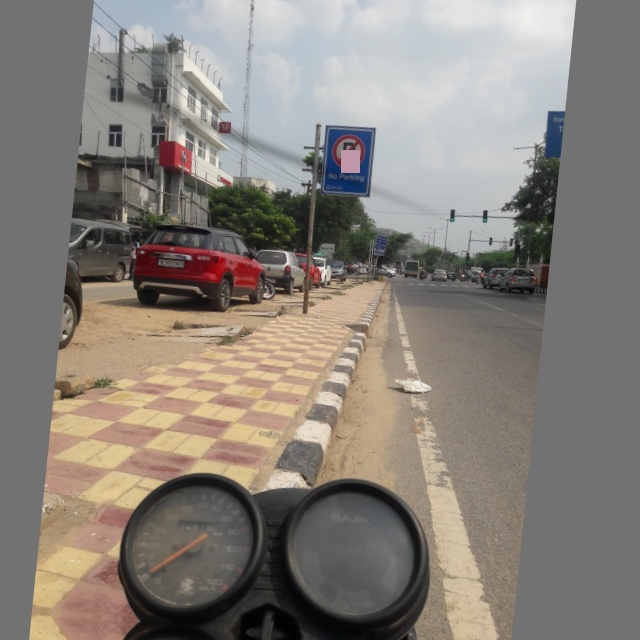No_Parking: (323, 124, 376, 176)
